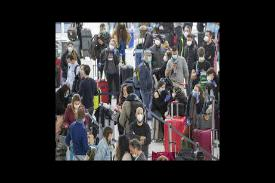mask_weared_incorrect: (129, 147, 138, 157), (122, 88, 128, 98)
with_mask: (73, 101, 82, 110), (191, 88, 199, 98), (137, 109, 143, 122), (145, 53, 153, 62), (108, 132, 115, 141), (198, 54, 205, 62), (159, 85, 166, 93), (206, 73, 213, 81), (64, 90, 70, 99), (172, 50, 178, 59), (186, 38, 192, 47), (183, 29, 189, 38), (79, 67, 84, 77), (109, 42, 115, 50), (203, 34, 209, 42), (172, 89, 177, 98), (100, 27, 106, 34), (68, 44, 73, 52), (67, 59, 72, 67), (155, 38, 160, 44), (118, 22, 124, 27)
